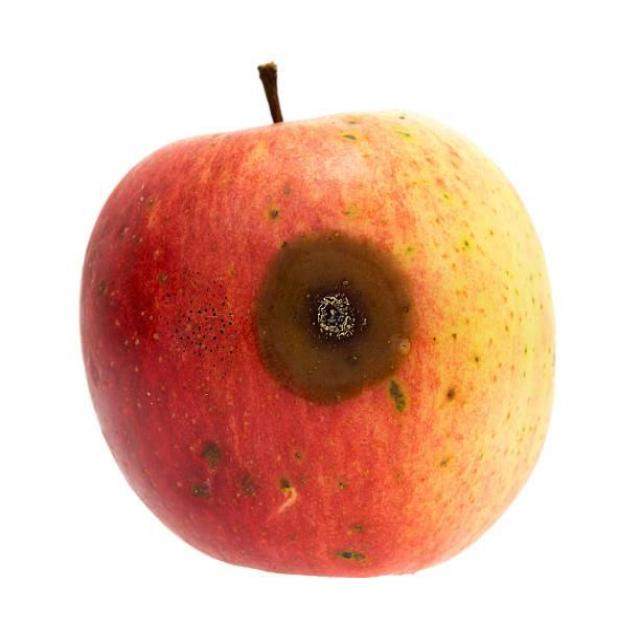Rotten: (76, 108, 556, 580)
